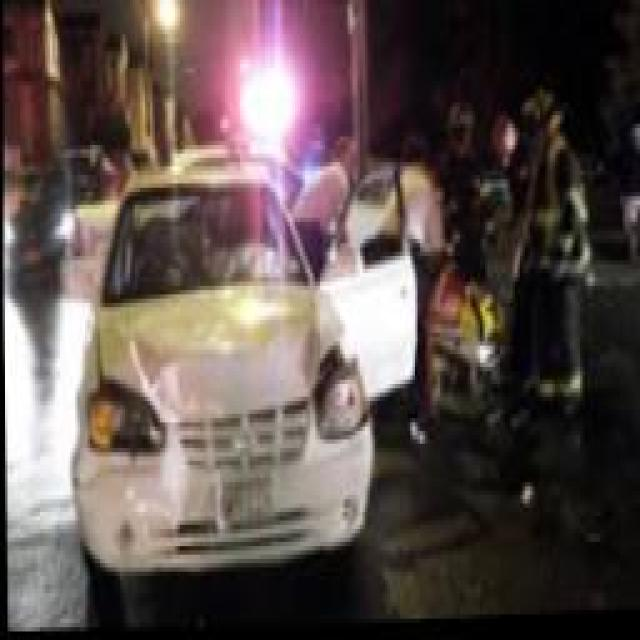Bonnet: (97, 280, 364, 423)
Bumper: (82, 453, 190, 579)
Light: (309, 356, 378, 465), (83, 381, 166, 469)
